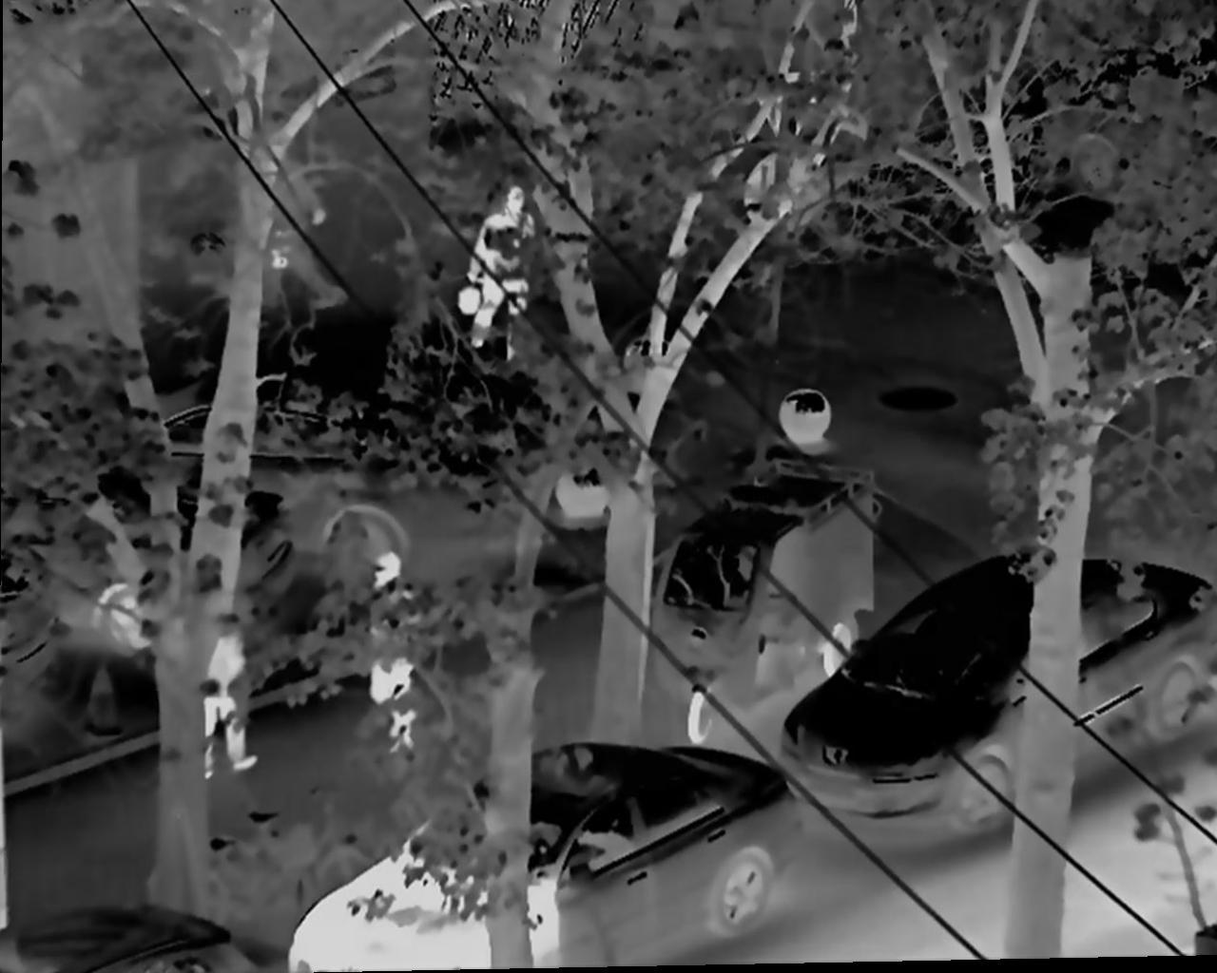person: (184, 565, 273, 783), (448, 170, 542, 376), (368, 551, 443, 784)
